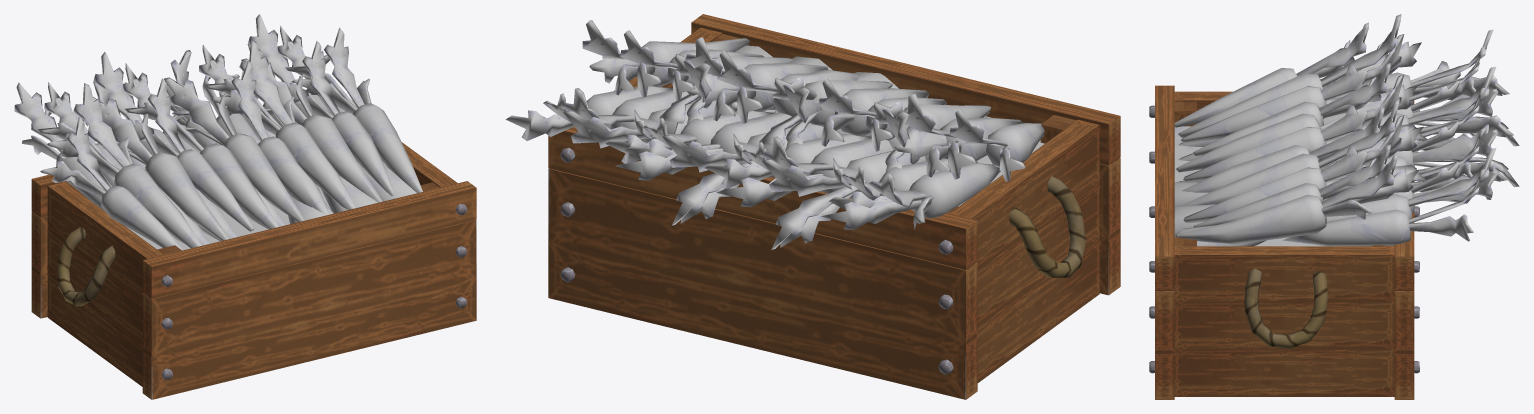
File: FarmCrate_Carrot.gltf
3 renders of one model, left to right at view 1: azimuth 30°, elevation 25°; view 2: azimuth 150°, elevation 25°; view 3: azimuth 270°, elevation 25°, orthographic. The views are drawn at different scales.
Visible parts, largest first — view 1: FarmCrate_Carrot; view 2: FarmCrate_Carrot; view 3: FarmCrate_Carrot.
Part boxes in pixels (<box>): FarmCrate_Carrot: <box>14,14,476,399</box>; FarmCrate_Carrot: <box>506,14,1120,399</box>; FarmCrate_Carrot: <box>1149,14,1519,399</box>.
Size of the model in its own units: 0.7138 by 0.4113 by 0.567.
3 materials, 3 textured.
